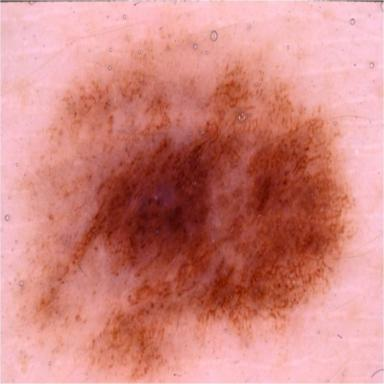nevus: (20, 28, 345, 380)
